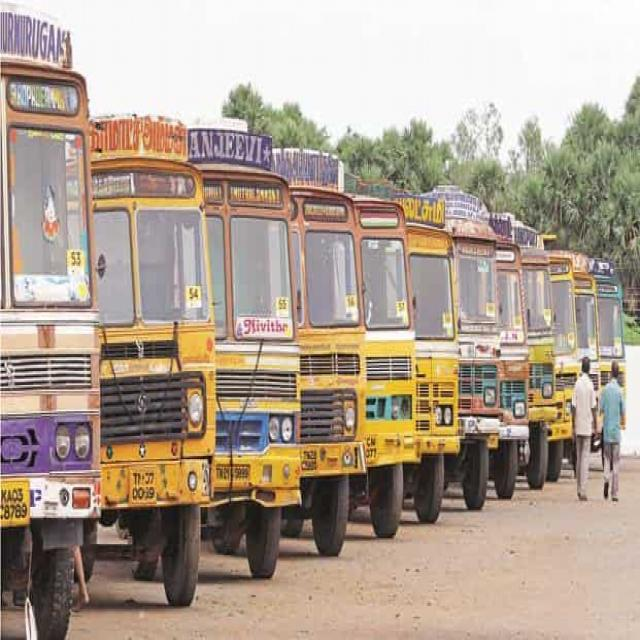Truck: (1, 4, 100, 640), (91, 113, 212, 602), (179, 116, 300, 576), (264, 147, 364, 550), (354, 187, 414, 535), (396, 226, 462, 520), (450, 210, 502, 506), (494, 241, 535, 498)
